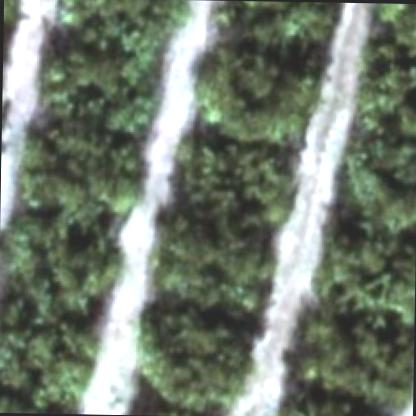Canopy-Citrus: (190, 32, 325, 142), (288, 294, 414, 406), (0, 218, 125, 330), (15, 128, 145, 231), (136, 301, 258, 407), (35, 46, 163, 138), (174, 134, 296, 230), (317, 196, 415, 313), (152, 223, 271, 312), (342, 82, 415, 212), (53, 0, 192, 60), (222, 1, 346, 43), (364, 2, 415, 79), (271, 393, 393, 415)
